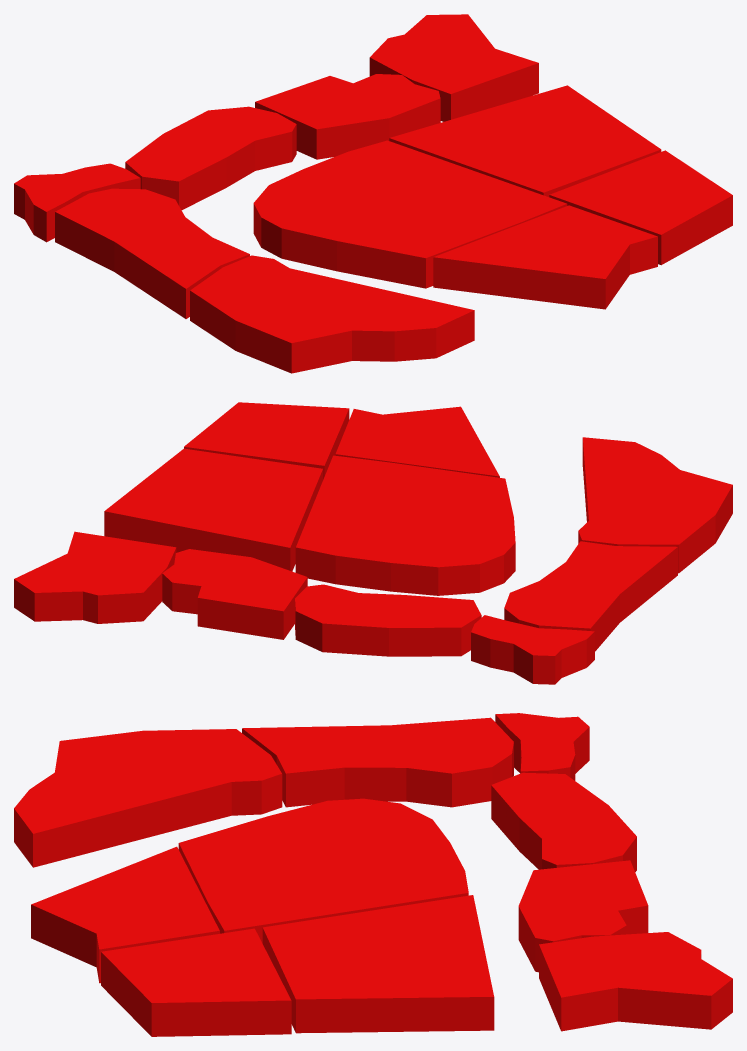
File: Shanghai-09-Center.FBX
3 views of the same model, one above another, from view 1: azimuth 30°, elevation 25°; view 2: azimuth 150°, elevation 25°; view 3: azimuth 270°, elevation 25° (orthographic). The views are drawn at different scales.
Parts seen in each view (by area): view 1: Area-01, Area-02, Area-05, Area-03, Area-10, Area-08, Area-06, Area-04, Area-07, Area-09; view 2: Area-01, Area-05, Area-02, Area-08, Area-06, Area-10, Area-07, Area-03, Area-04, Area-09; view 3: Area-01, Area-05, Area-02, Area-10, Area-04, Area-06, Area-03, Area-08, Area-07, Area-09.
Boxes of the visible parts, x1=… form: Area-01: x1=253, y1=140, x2=567, y2=288; Area-02: x1=190, y1=255, x2=474, y2=373; Area-05: x1=389, y1=85, x2=661, y2=196; Area-03: x1=433, y1=205, x2=657, y2=309; Area-10: x1=55, y1=188, x2=249, y2=318; Area-08: x1=125, y1=106, x2=296, y2=210; Area-06: x1=369, y1=14, x2=538, y2=121; Area-04: x1=549, y1=150, x2=732, y2=265; Area-07: x1=255, y1=74, x2=440, y2=159; Area-09: x1=14, y1=163, x2=140, y2=242; Area-01: x1=295, y1=455, x2=515, y2=595; Area-05: x1=104, y1=448, x2=322, y2=571; Area-02: x1=578, y1=437, x2=732, y2=573; Area-08: x1=295, y1=584, x2=481, y2=656; Area-06: x1=14, y1=531, x2=176, y2=623; Area-10: x1=504, y1=541, x2=677, y2=651; Area-07: x1=162, y1=549, x2=307, y2=639; Area-03: x1=335, y1=406, x2=499, y2=477; Area-04: x1=184, y1=402, x2=349, y2=479; Area-09: x1=471, y1=615, x2=594, y2=684; Area-01: x1=178, y1=798, x2=468, y2=943; Area-05: x1=262, y1=895, x2=494, y2=1033; Area-02: x1=14, y1=729, x2=282, y2=867; Area-10: x1=242, y1=717, x2=513, y2=807; Area-04: x1=101, y1=928, x2=291, y2=1036; Area-06: x1=539, y1=932, x2=732, y2=1031; Area-03: x1=31, y1=846, x2=219, y2=983; Area-08: x1=491, y1=772, x2=636, y2=872; Area-07: x1=518, y1=860, x2=648, y2=972; Area-09: x1=495, y1=713, x2=589, y2=780.
Bounding box in the file's own units: 368012 × 20000 × 385532.
